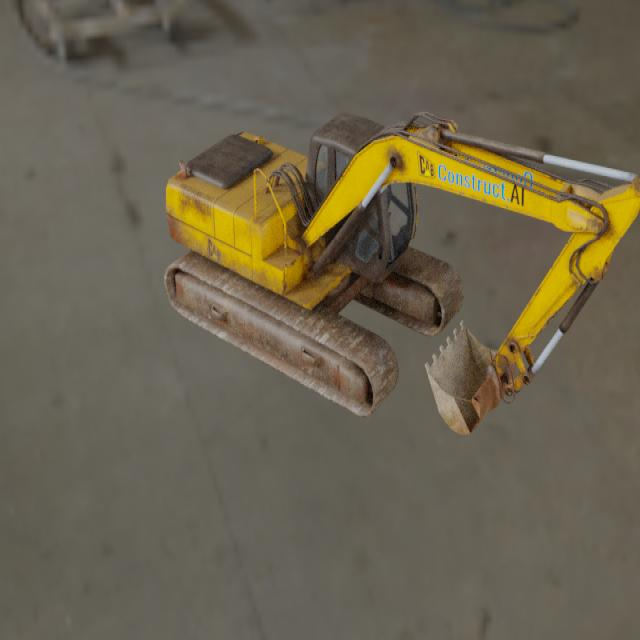excavator: (163, 110, 640, 434)
